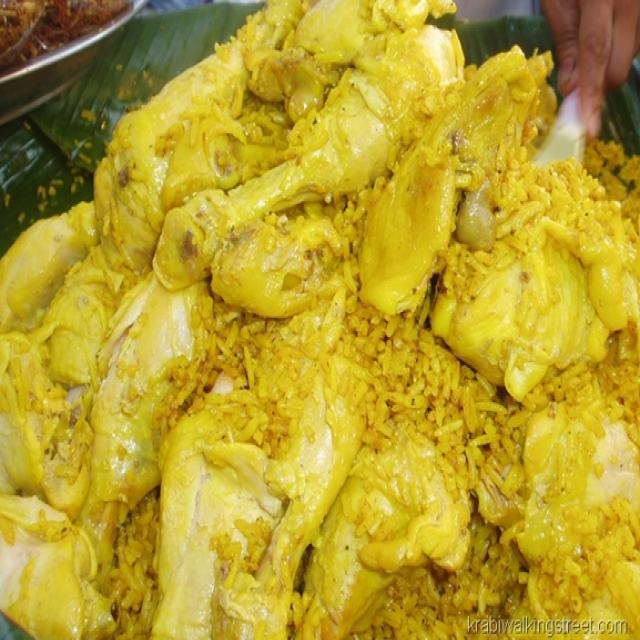米饭主食: (23, 23, 609, 618)
